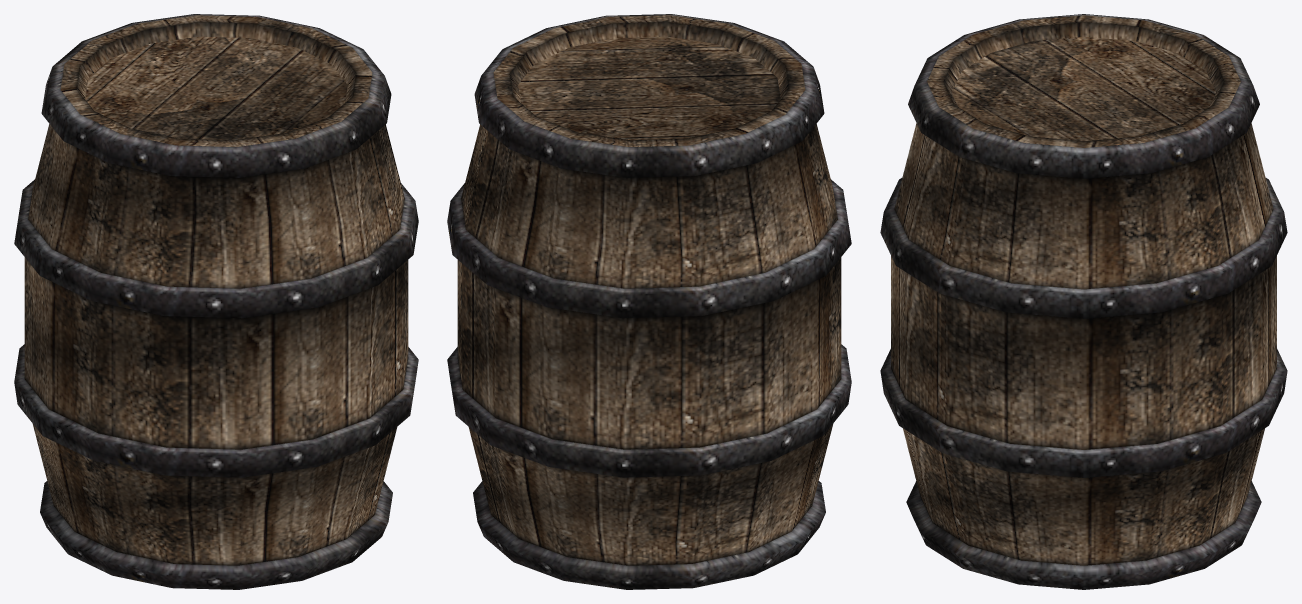
The model's file is barrel.obj.
3 views of the same model, side by side, from view 1: azimuth 30°, elevation 25°; view 2: azimuth 150°, elevation 25°; view 3: azimuth 270°, elevation 25° (orthographic).
Parts seen in each view (by area): view 1: barrel.obj; view 2: barrel.obj; view 3: barrel.obj.
Part boxes in pixels (left/top/right/bottom): barrel.obj: left=14, top=14, right=418, bottom=589; barrel.obj: left=447, top=14, right=851, bottom=589; barrel.obj: left=880, top=14, right=1287, bottom=589.
Bounding box in the file's own units: 26.16 × 31.27 × 26.16.
1 material, 1 textured.
